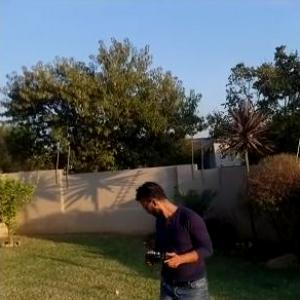follow: (131, 178, 218, 299)
